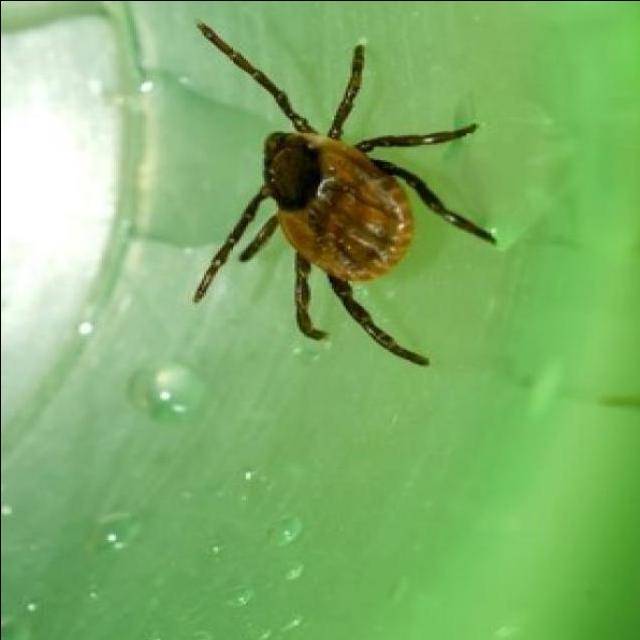Rhipicephalus Sanguineus-F: (191, 23, 496, 366)
